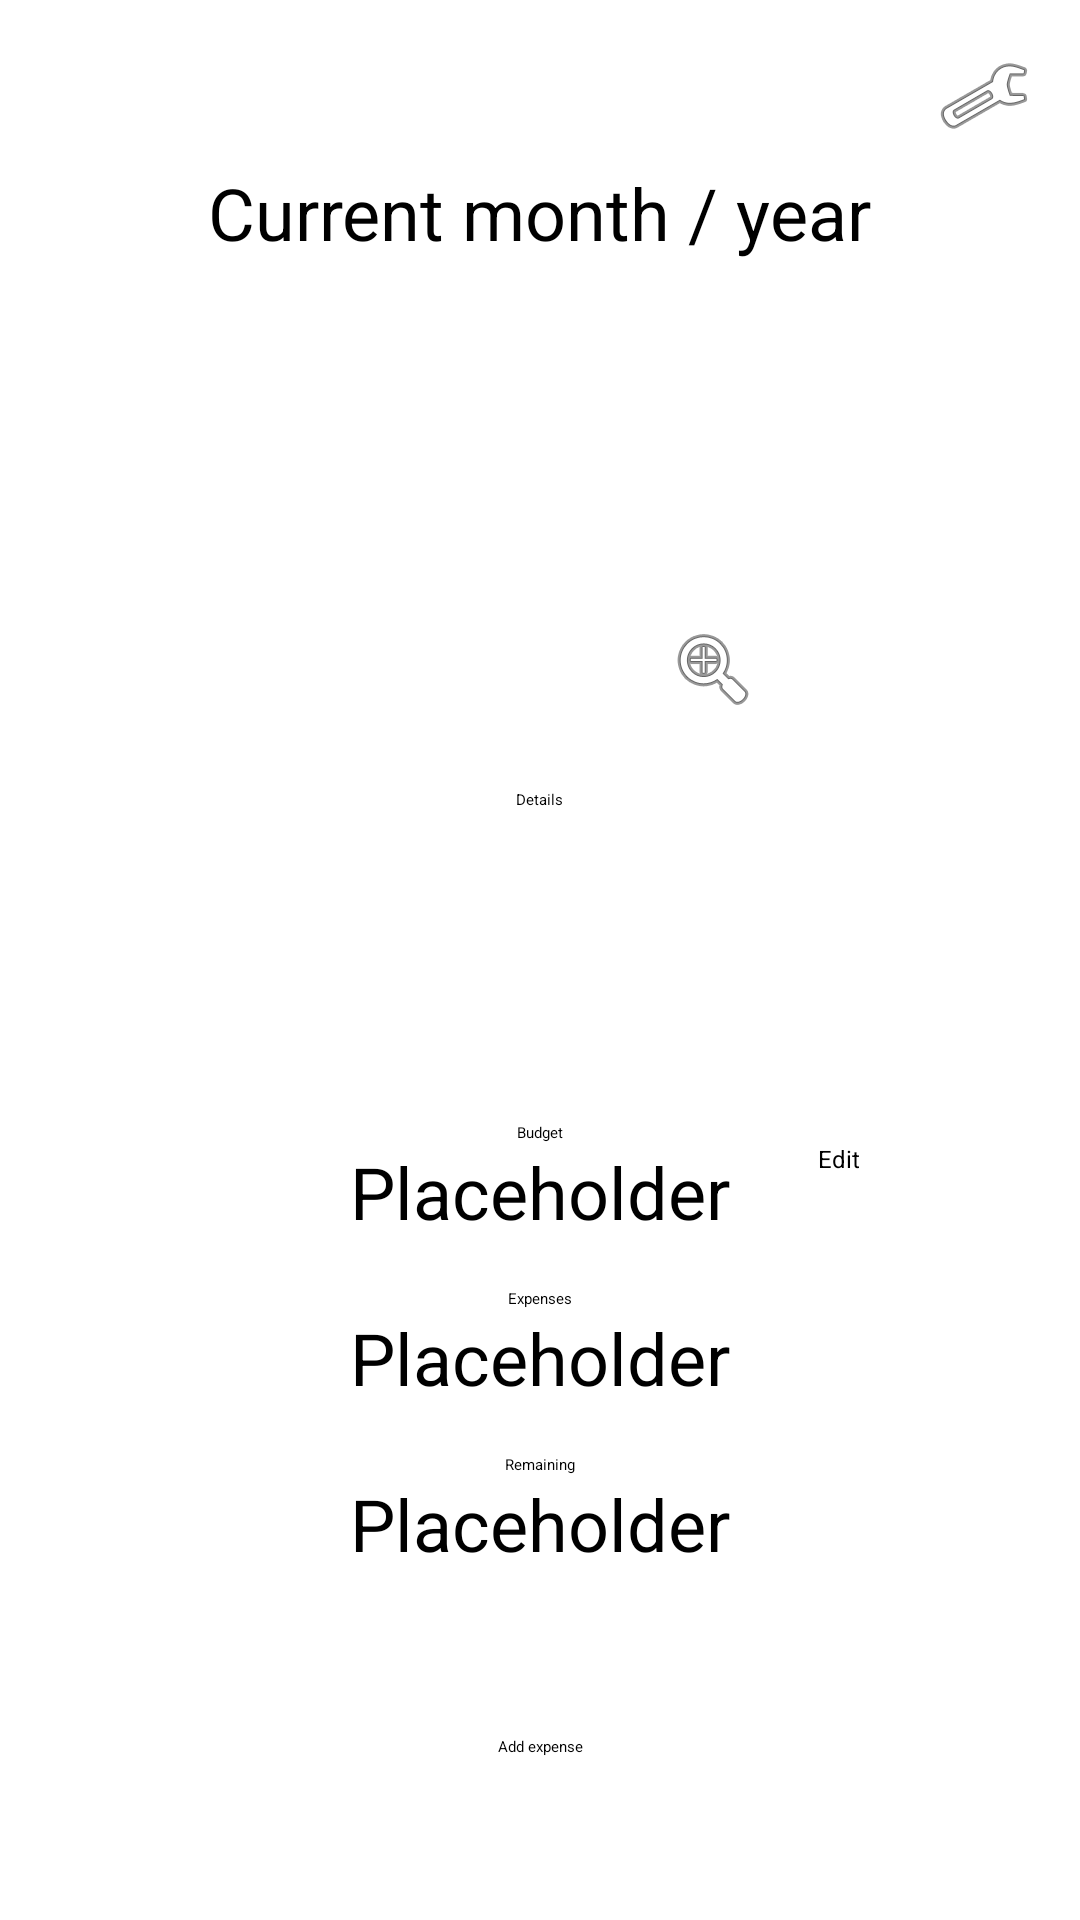

Locate icon controls on the screen. Image size 1080x1920, boxes as (x1, y1, x2, y2).
preferences: (941, 63, 1027, 129)
